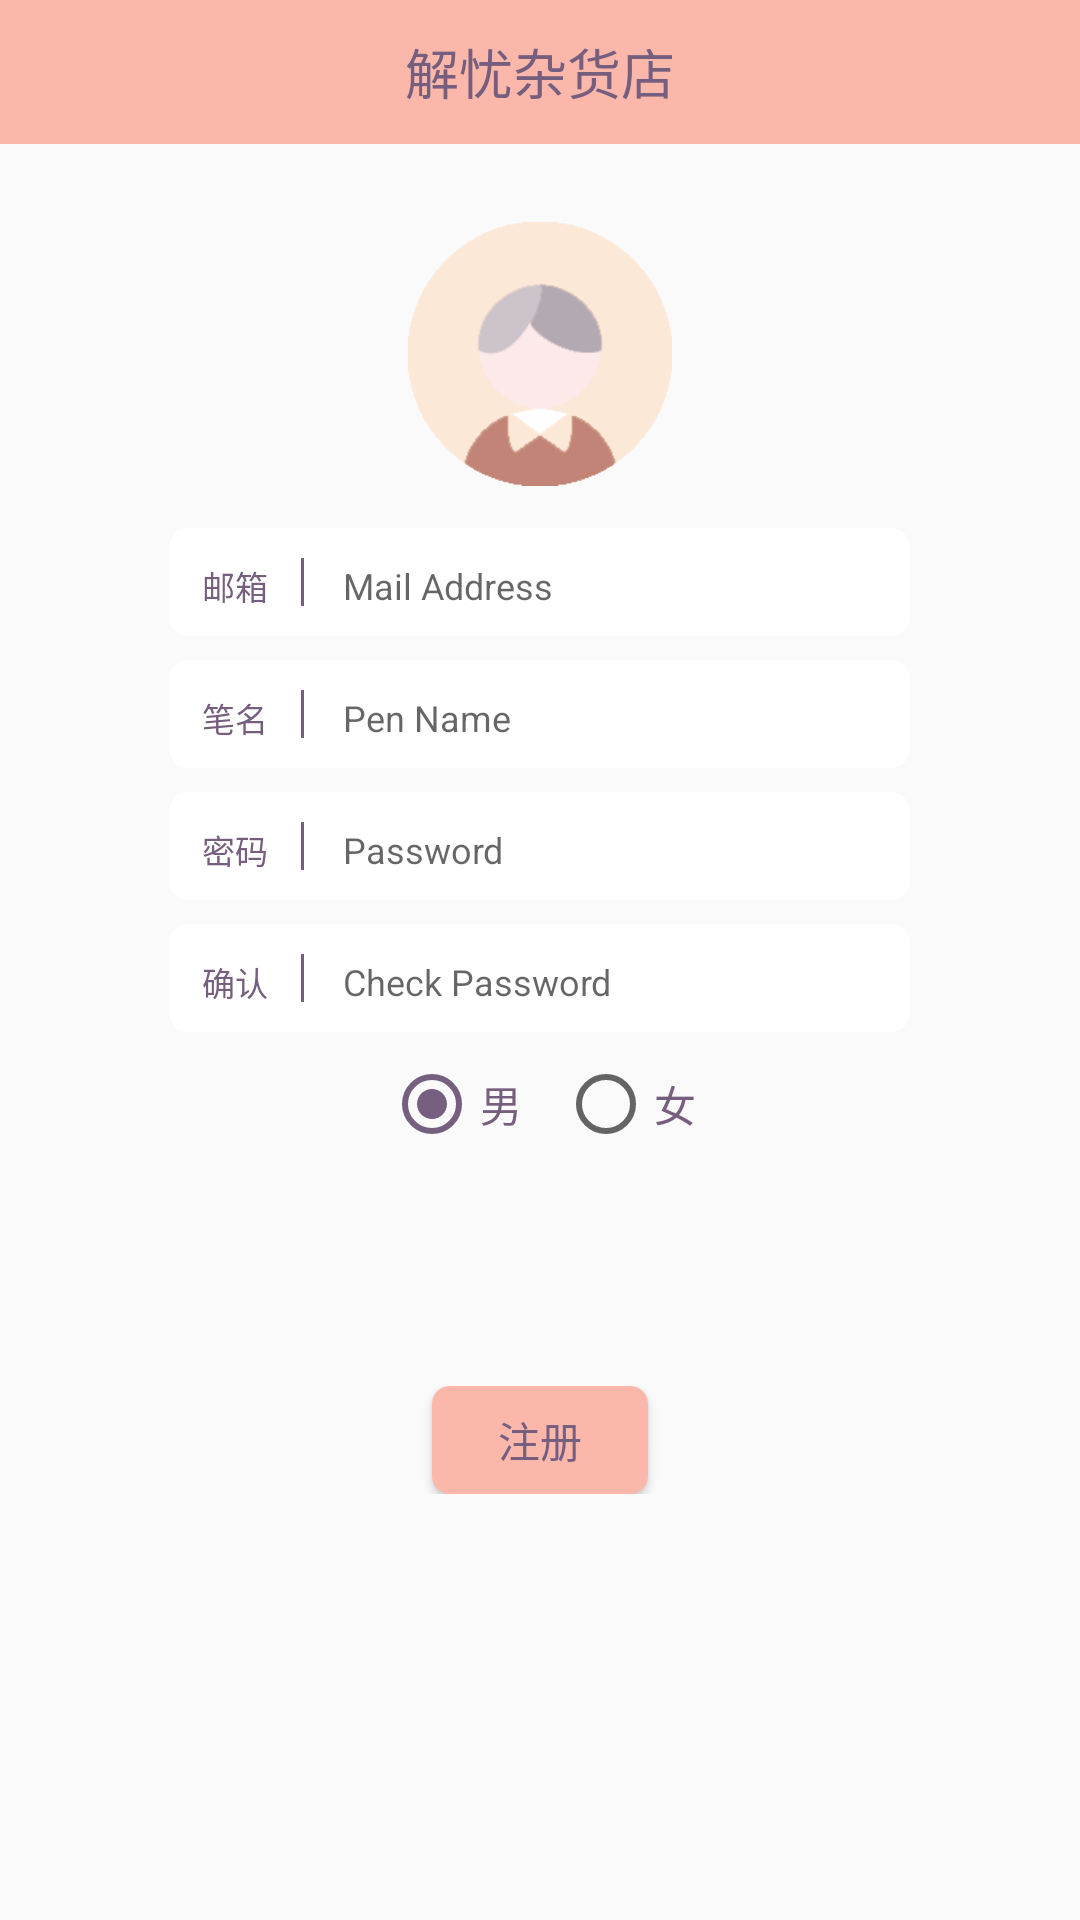

Named icons in this screenshot (1080w x 1920h) and their bounding boxes, (x1, y1, x2, y2):
user boy: (408, 222, 672, 486)
